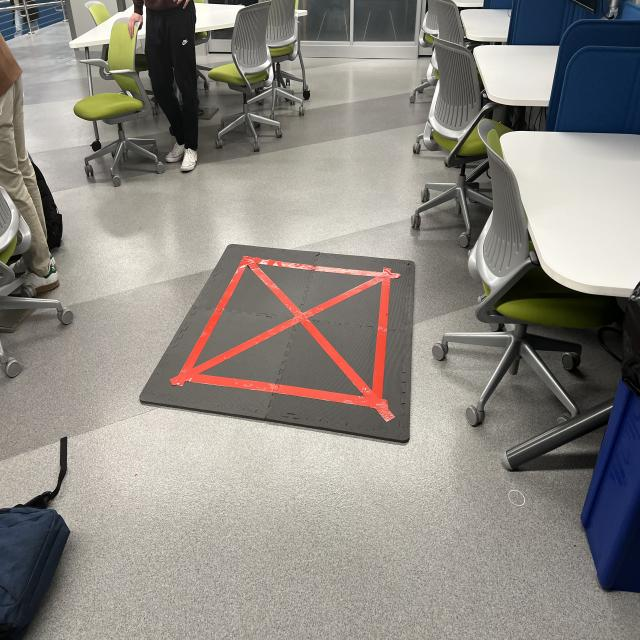landingPads: (140, 246, 416, 444)
